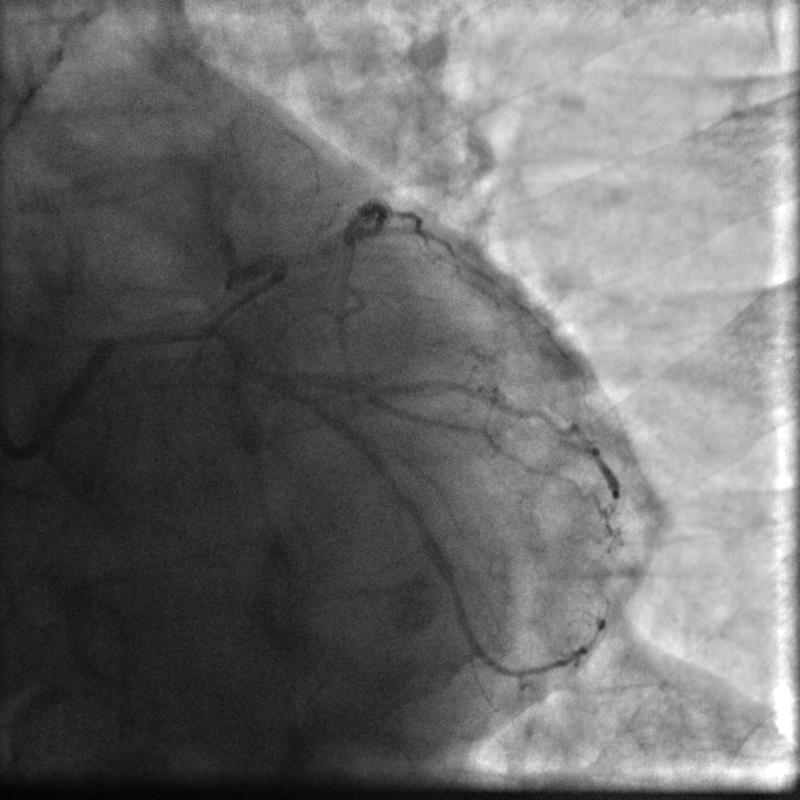Stenosis: (206, 271, 250, 318)
